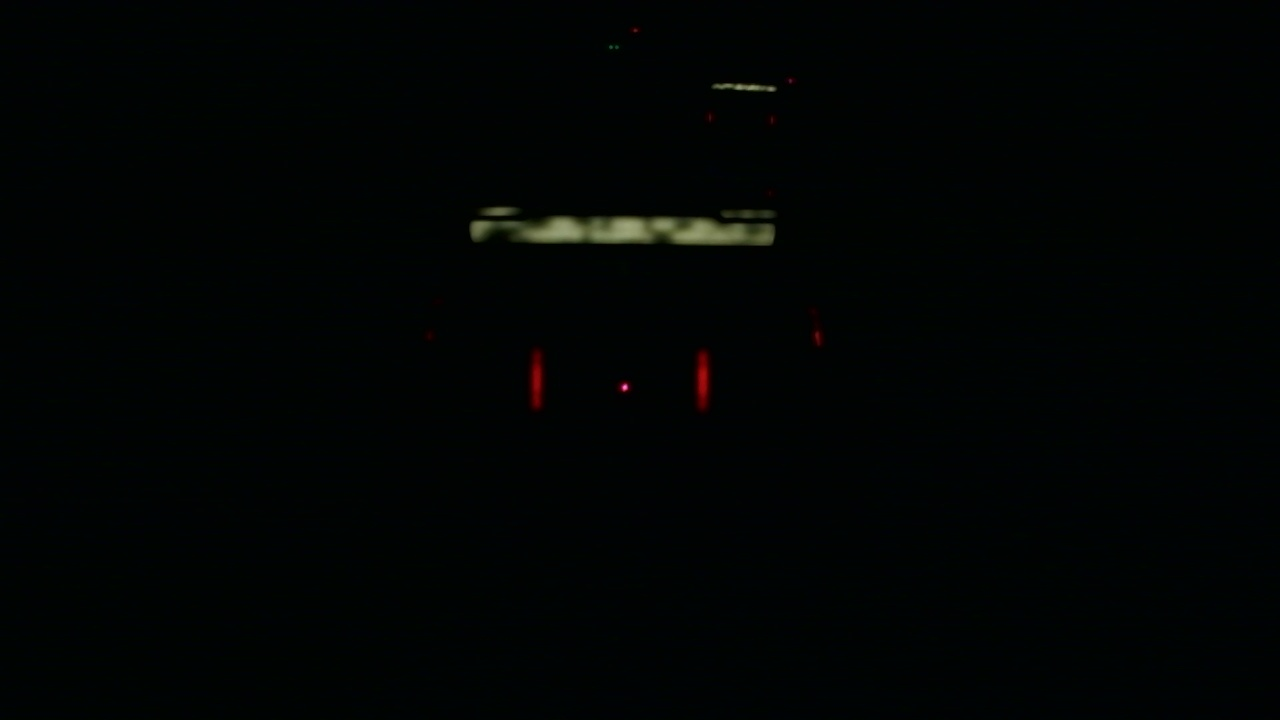lamp: (530, 348, 544, 408), (696, 349, 710, 409)
pair1: (531, 349, 710, 410)
